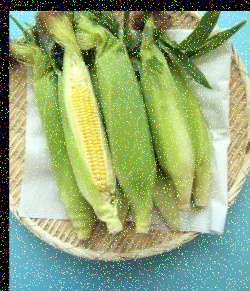corn: (65, 66, 109, 197)
corn_plant: (12, 42, 93, 233), (84, 13, 151, 212), (137, 27, 193, 200)
